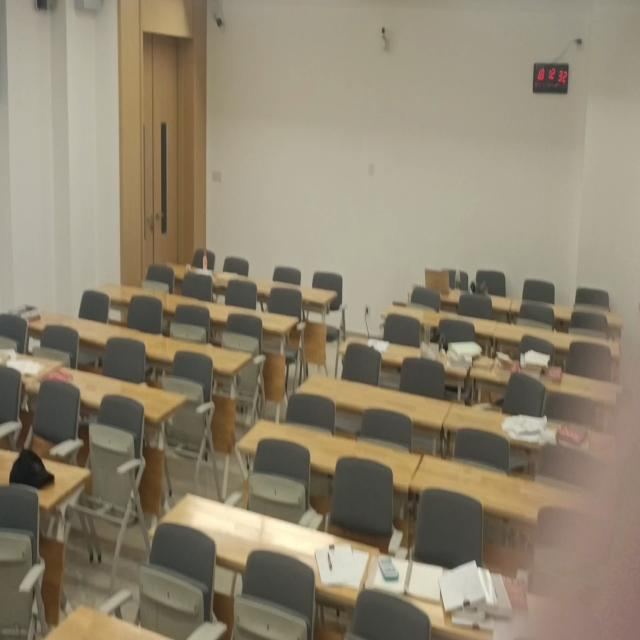Non-empty: (159, 491, 377, 600), (446, 400, 623, 478), (30, 362, 192, 421), (343, 332, 479, 381), (0, 448, 93, 508), (407, 274, 516, 316), (160, 258, 258, 296), (2, 341, 59, 378)
empty: (410, 449, 594, 534), (235, 417, 422, 487), (296, 369, 456, 430), (118, 328, 255, 378), (43, 598, 167, 640), (97, 279, 214, 323)
